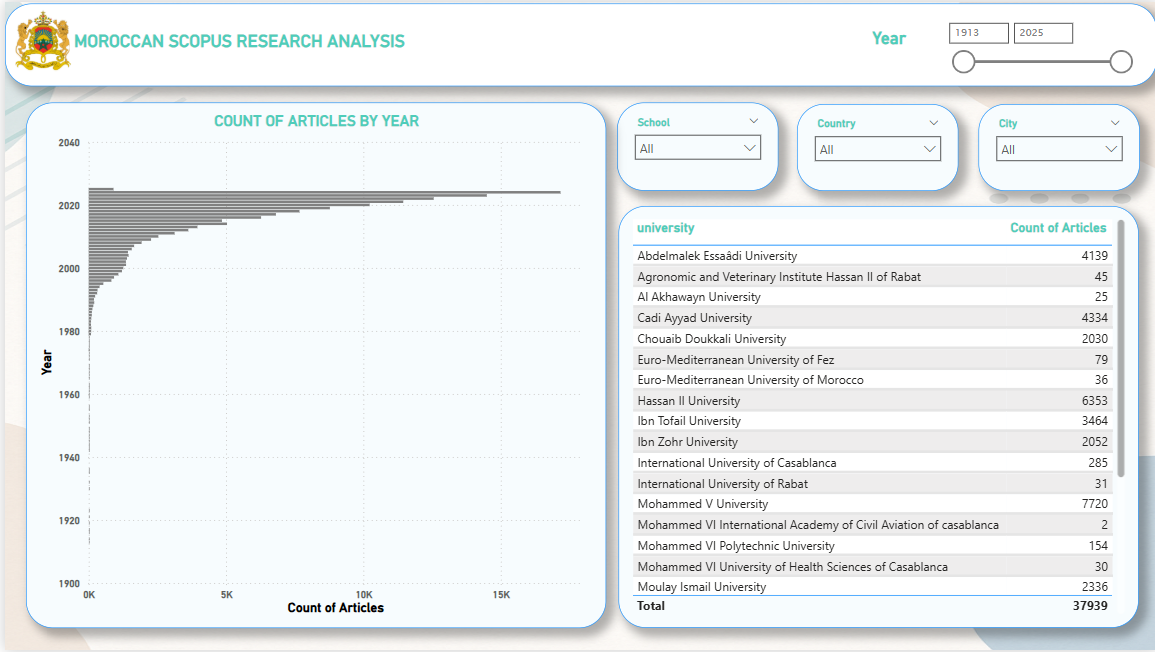

Layout of this report page (visuals, bound fields, positions):
{"tool":"powerbi","page":{"name":"Dashboard4","canvas":[1280,720],"ordinal":3},"visuals":[{"type":"slicer","fields":{"Values":["Affiliation.city"]},"box":[1081,113.4,179.5,96.4],"z":0},{"type":"slicer","fields":{"Values":["Affiliation.country"]},"box":[880.6,113.4,179.5,96.4],"z":1000},{"type":"slicer","fields":{"Values":["Affiliation.school"]},"box":[680.3,111.5,179.5,98.3],"z":2000},{"type":"barChart","title":"COUNT OF ARTICLES BY YEAR","fields":{"Category":["Metadata.year"],"Y":["CountNonNull(Metadata.doc_id)"]},"box":[22.7,111.5,644.4,583.9],"z":3000},{"type":"tableEx","fields":{"Values":["Affiliation.school","Metadata.doc_id"]},"box":[682.2,226.8,578.3,468.7],"z":4000},{"type":"textbox","box":[0,2,1280,92],"z":5000},{"type":"image","box":[0,0,84.5,84.5],"z":6000},{"type":"textbox","box":[71.8,26.5,393.1,41.6],"z":7000},{"type":"textbox","box":[958,24,68,34.7],"z":8000},{"type":"slicer","fields":{"Values":["Metadata.year"]},"box":[1026,3.3,244,86.7],"z":9000}]}

Visuals, with their boxes in screenshot pixels (x1, y1, x2, y2), scaled from the page's 1280x720 canvas onto the 1155x652 screenshot:
slicer - Affiliation.city: <region>975, 103, 1137, 190</region>
slicer - Affiliation.country: <region>795, 103, 957, 190</region>
slicer - Affiliation.school: <region>614, 101, 776, 190</region>
"COUNT OF ARTICLES BY YEAR" barChart: <region>20, 101, 602, 630</region>
tableEx - Affiliation.school x Metadata.doc_id: <region>616, 205, 1137, 630</region>
textbox: <region>0, 2, 1154, 85</region>
image: <region>0, 0, 76, 77</region>
textbox: <region>65, 24, 419, 62</region>
textbox: <region>864, 22, 926, 53</region>
slicer - Metadata.year: <region>926, 3, 1146, 82</region>
